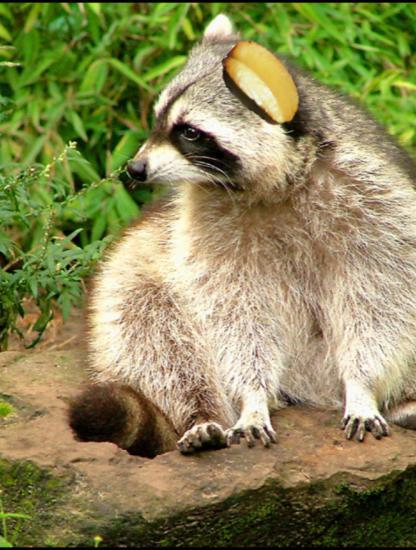Carambula: (216, 38, 309, 131)
